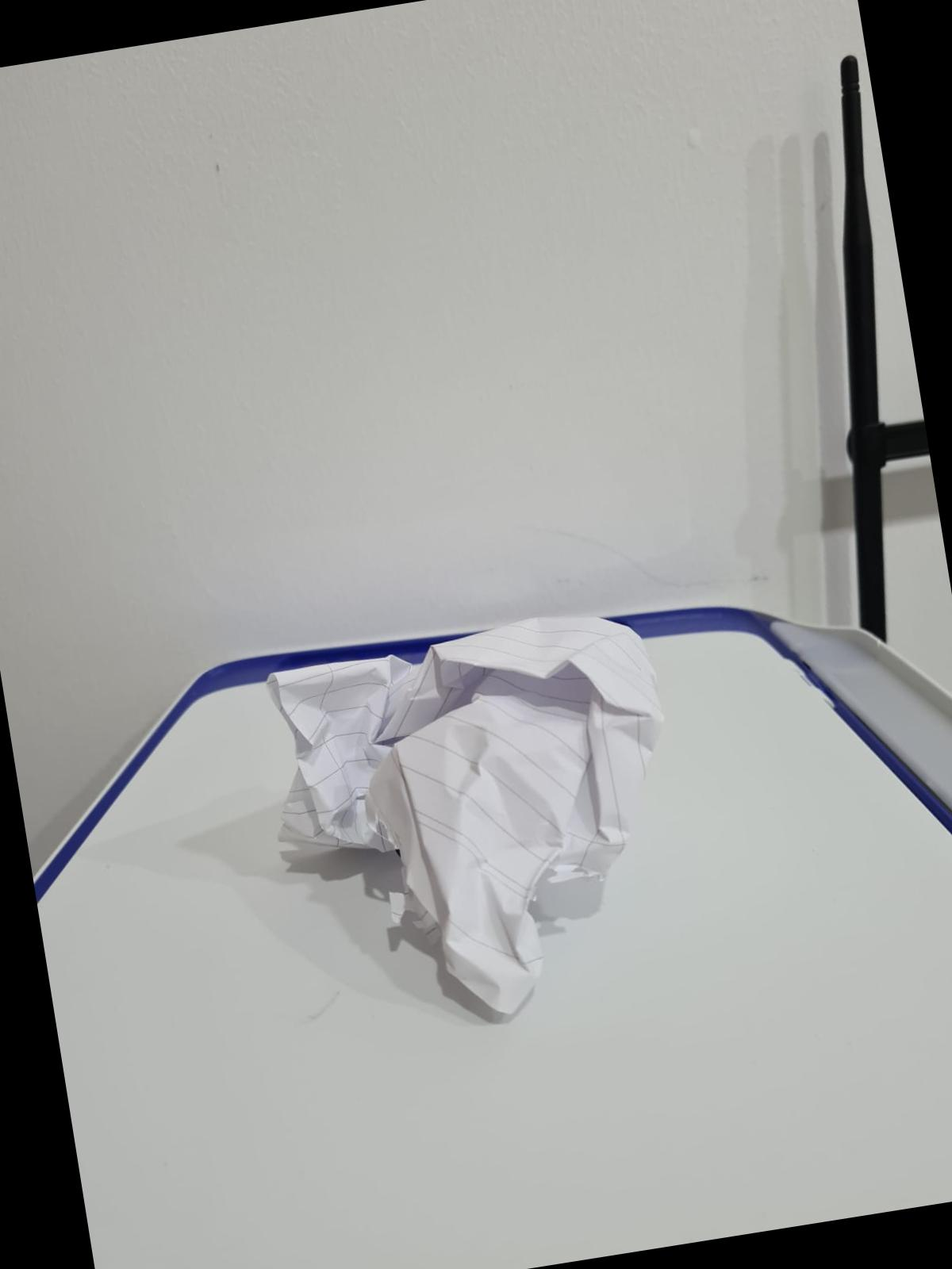Kertas: (256, 598, 712, 968), (267, 617, 661, 1014)
